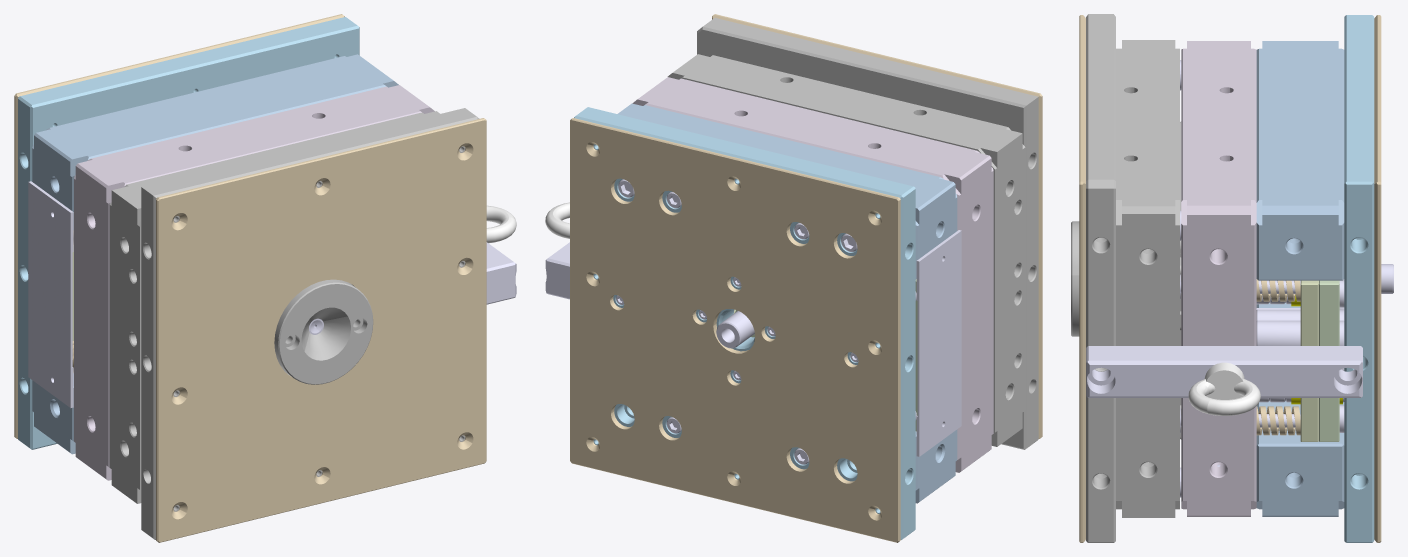
The model's file is IM180_MOLD_step.glb.
3 renders of one model, left to right at view 1: azimuth 30°, elevation 25°; view 2: azimuth 150°, elevation 25°; view 3: azimuth 270°, elevation 25°, orthographic. The views are drawn at different scales.
Visible parts, largest first — view 1: empty_106, empty_107, empty_110, empty_109, empty_4, empty_2, empty_166, empty_3, empty_214, empty_108, empty_87, empty_88; view 2: empty_214, empty_107, empty_4, empty_2, empty_110, empty_166, empty_109, empty_106, empty_108, empty_87, empty_261, empty_88; view 3: empty_107, empty_4, empty_109, empty_110, empty_2, empty_87, empty_108, empty_214, empty_106, empty_88, empty_216, empty_215 (+5 smaller).
Boxes of the visible parts, x1,y1,x2,y2 form: empty_106: [156, 118, 486, 542]; empty_107: [74, 85, 434, 480]; empty_110: [18, 17, 359, 449]; empty_109: [32, 54, 398, 229]; empty_4: [109, 111, 439, 503]; empty_2: [141, 108, 479, 539]; empty_166: [28, 181, 73, 407]; empty_3: [274, 279, 373, 384]; empty_214: [14, 14, 344, 438]; empty_108: [32, 373, 75, 454]; empty_87: [486, 242, 516, 304]; empty_88: [486, 205, 516, 243]; empty_214: [570, 118, 900, 542]; empty_107: [632, 77, 993, 472]; empty_4: [667, 54, 1025, 446]; empty_2: [697, 18, 1038, 449]; empty_110: [574, 107, 915, 539]; empty_166: [916, 230, 961, 456]; empty_109: [617, 103, 957, 279]; empty_106: [712, 14, 1042, 438]; empty_108: [915, 429, 957, 503]; empty_87: [545, 242, 569, 299]; empty_261: [716, 311, 754, 348]; empty_88: [545, 202, 569, 238]; empty_107: [1181, 41, 1256, 516]; empty_4: [1116, 40, 1179, 517]; empty_109: [1256, 41, 1344, 280]; empty_110: [1344, 15, 1374, 542]; empty_2: [1086, 14, 1115, 542]; empty_87: [1086, 346, 1362, 397]; empty_108: [1256, 303, 1344, 516]; empty_214: [1374, 15, 1381, 542]; empty_106: [1079, 15, 1085, 542]; empty_88: [1188, 362, 1260, 415]; empty_216: [1319, 280, 1339, 441]; empty_215: [1300, 280, 1318, 441].
Bounding box in the file's own units: 0.448 × 0.346 × 0.28.
